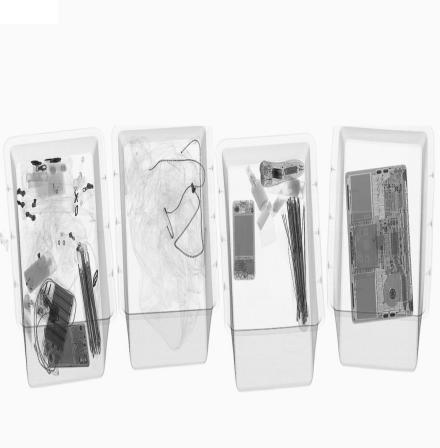Powerbank: (41, 282, 75, 362)
